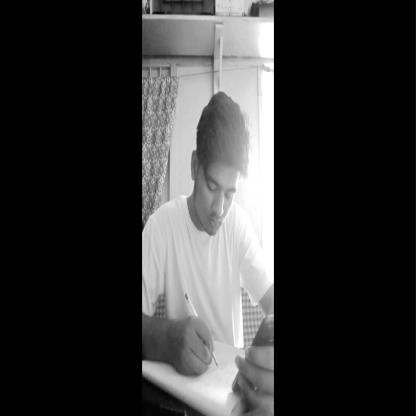Distracted: (194, 167, 237, 243)
